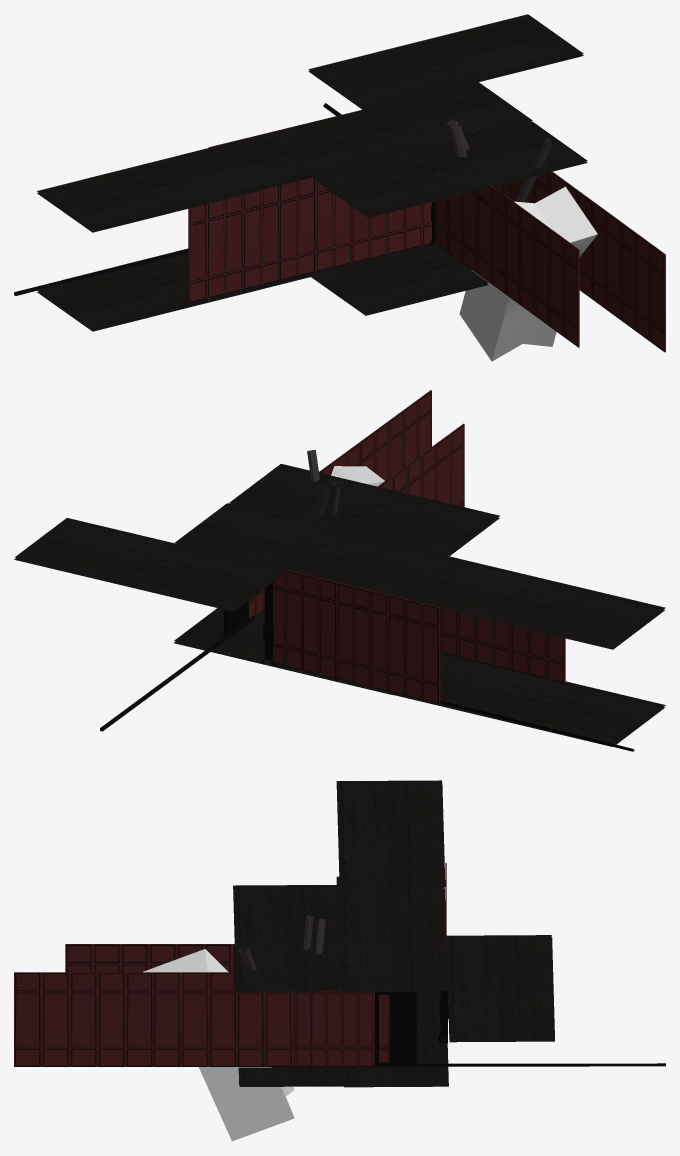
The model's file is ParteCasino.fbx.
3 renders of one model, top to bottom at view 1: azimuth 30°, elevation 25°; view 2: azimuth 150°, elevation 25°; view 3: azimuth 270°, elevation 25°, orthographic. The views are drawn at different scales.
Parts seen in each view (by area): view 1: Plane.751, Plane.007, Plane.009, Plane.008, Plane.012, Plane.010, Plane.005, Plane.728, Plane.006, Cube.027, Plane.002, Cube.180 (+1 smaller); view 2: Plane.750, Plane.008, Plane.009, Plane.010, Plane.012, Plane.728, Plane.751, Plane.005, Plane.007, Plane.004, Cube.197, Cube.155 (+3 smaller); view 3: Plane.005, Plane.008, Plane.010, Plane.009, Plane.012, Plane.003, Cube.027, Plane.004, Plane.007, Cube.229, Plane.006, Cube.197.
Part boxes in pixels (box(x1,y1,x2,y2)): Plane.751: box(188, 161, 369, 302); Plane.007: box(435, 145, 579, 347); Plane.009: box(37, 136, 311, 232); Plane.008: box(308, 14, 583, 109); Plane.012: box(312, 121, 587, 217); Plane.010: box(257, 81, 532, 177); Plane.005: box(520, 170, 665, 352); Plane.728: box(37, 253, 312, 331); Plane.006: box(311, 243, 488, 315); Cube.027: box(459, 186, 597, 361); Plane.002: box(370, 145, 434, 258); Cube.180: box(14, 248, 188, 295); Plane.750: box(268, 565, 440, 703); Plane.008: box(14, 518, 285, 611); Plane.009: box(394, 555, 665, 649); Plane.010: box(175, 503, 445, 595); Plane.012: box(228, 464, 500, 556); Plane.728: box(394, 654, 665, 746); Plane.751: box(440, 557, 565, 682); Plane.005: box(319, 390, 431, 480); Plane.007: box(323, 423, 464, 526); Plane.004: box(173, 608, 444, 694); Cube.197: box(100, 615, 255, 731); Cube.155: box(262, 564, 275, 665); Plane.005: box(14, 972, 292, 1066); Plane.008: box(446, 935, 554, 1042); Plane.010: box(339, 885, 447, 991); Plane.009: box(336, 780, 445, 886); Plane.012: box(233, 885, 341, 991); Plane.003: box(292, 972, 389, 1066); Cube.027: box(143, 949, 294, 1141); Plane.004: box(342, 991, 448, 1087); Plane.007: box(65, 944, 340, 972); Cube.229: box(375, 991, 416, 1066); Plane.006: box(238, 1067, 343, 1086); Cube.197: box(390, 1063, 665, 1066).
Size of the model in its own units: 8147 by 2803 by 8328.
